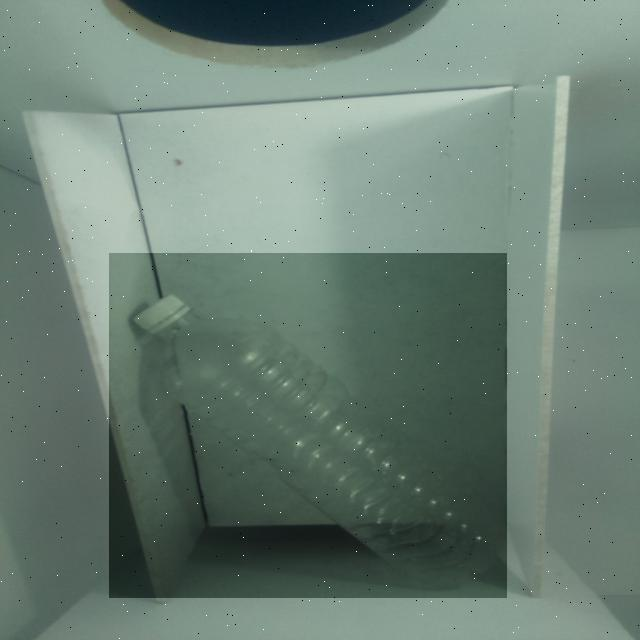bottle: (109, 253, 507, 600)
cap: (138, 294, 186, 326)
